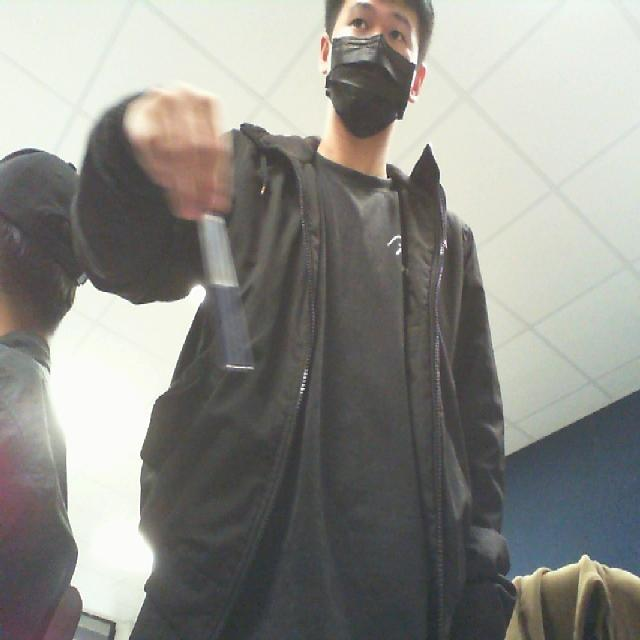Pen: (172, 182, 268, 416)
